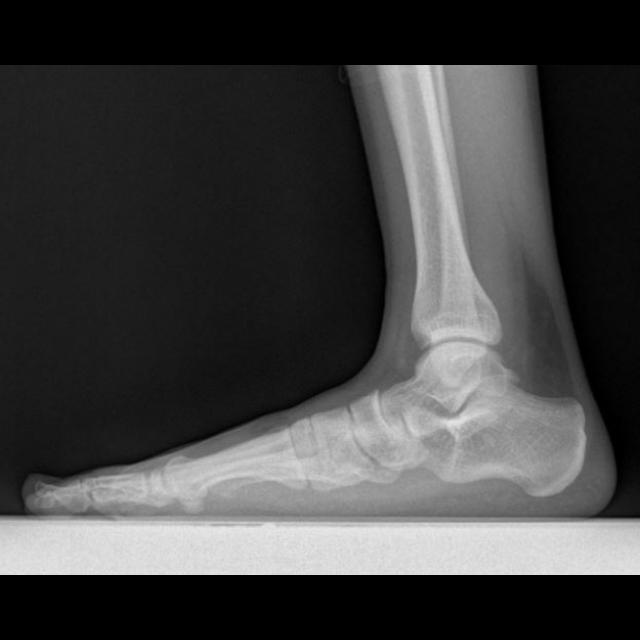a: (406, 374, 586, 497)
b: (349, 391, 415, 473)
c: (163, 428, 309, 514)
